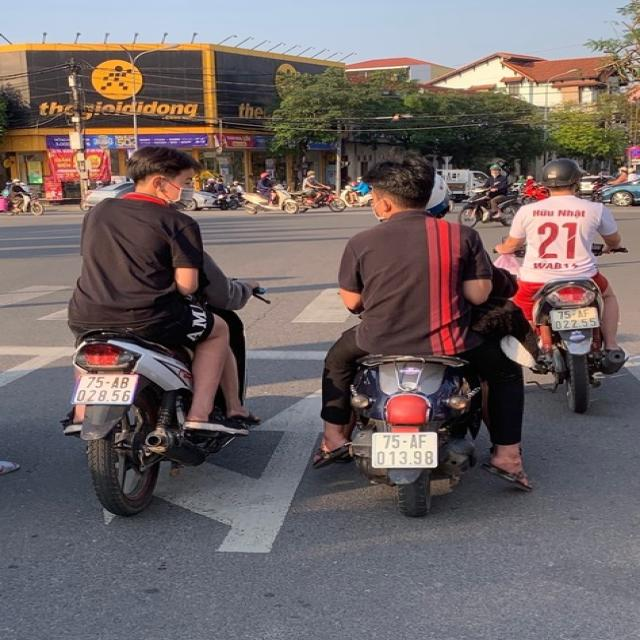no_helmet: (118, 142, 208, 214)
